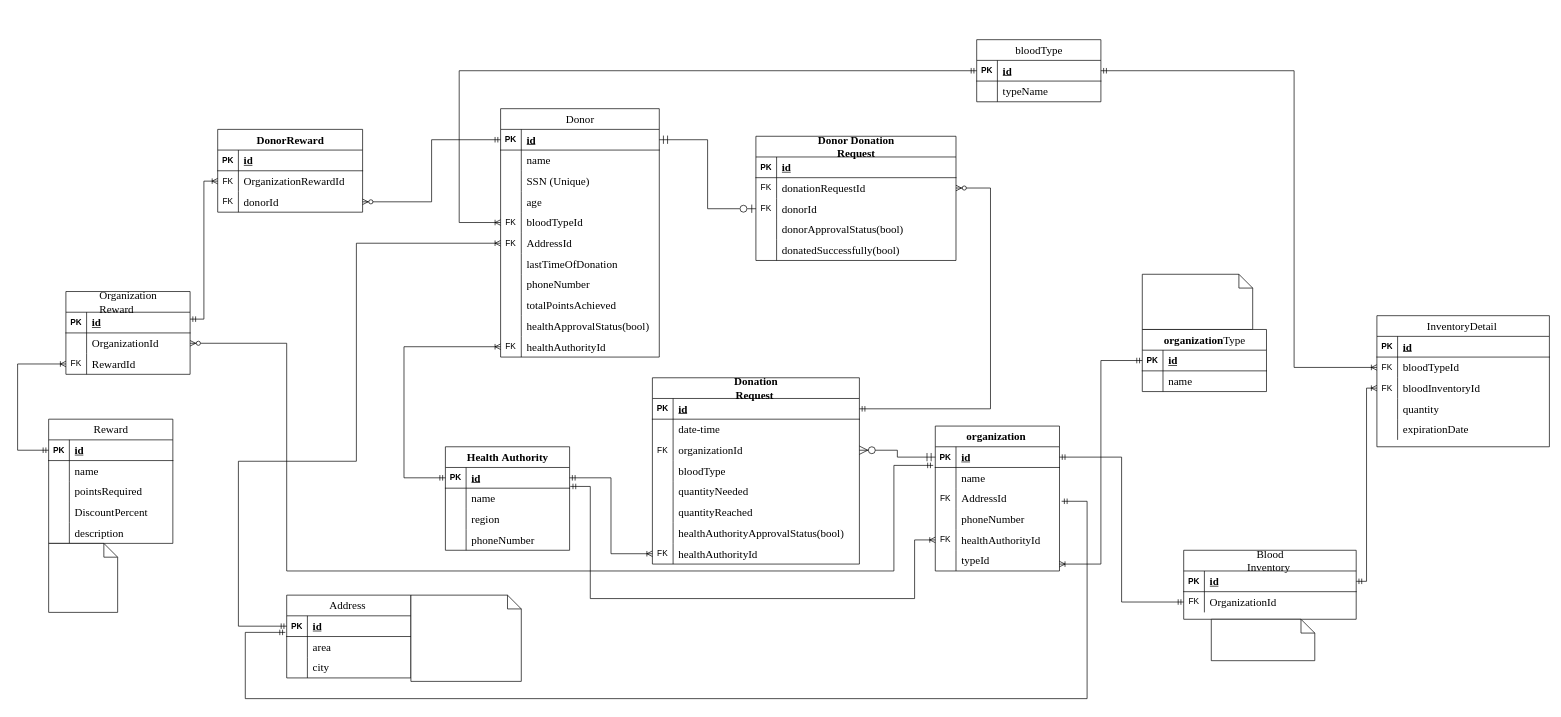
Image size: 1561x717. Some labels were removed from this diagram. Here are the shapes that lost their labels. From the top down, the centre of each, then its label:
At (1197,301): "organization Type EX (Blood Bank, hospital , mobile campaign)".
At (83,577): "Reward EX (MRI, SCAN, MEDICAL VISIT)".
At (465,637): "address examples maadi,cairo helwan,cairo --------- (fixid) could be modified".
At (1263,640): "could have more details in the future so it's separated".
